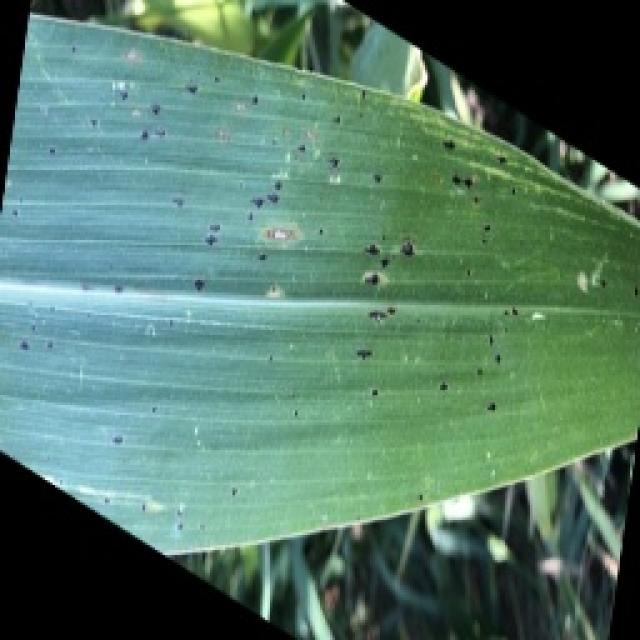Tar_Spot: (80, 61, 531, 399)
